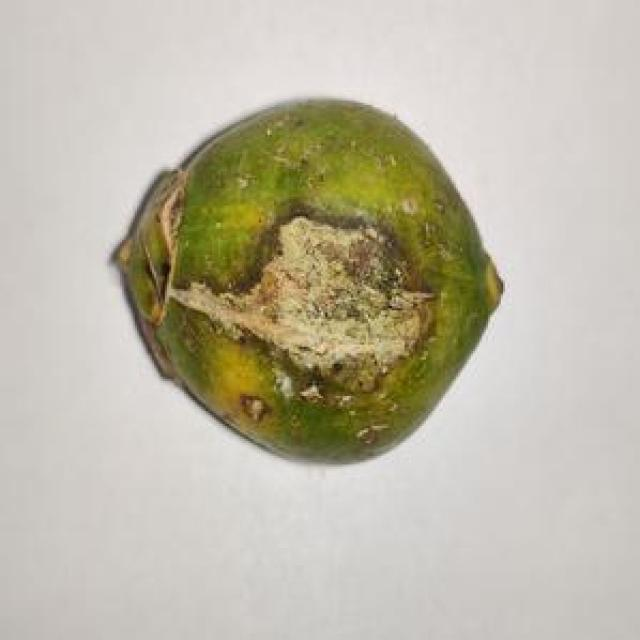damaged: (113, 101, 503, 460)
